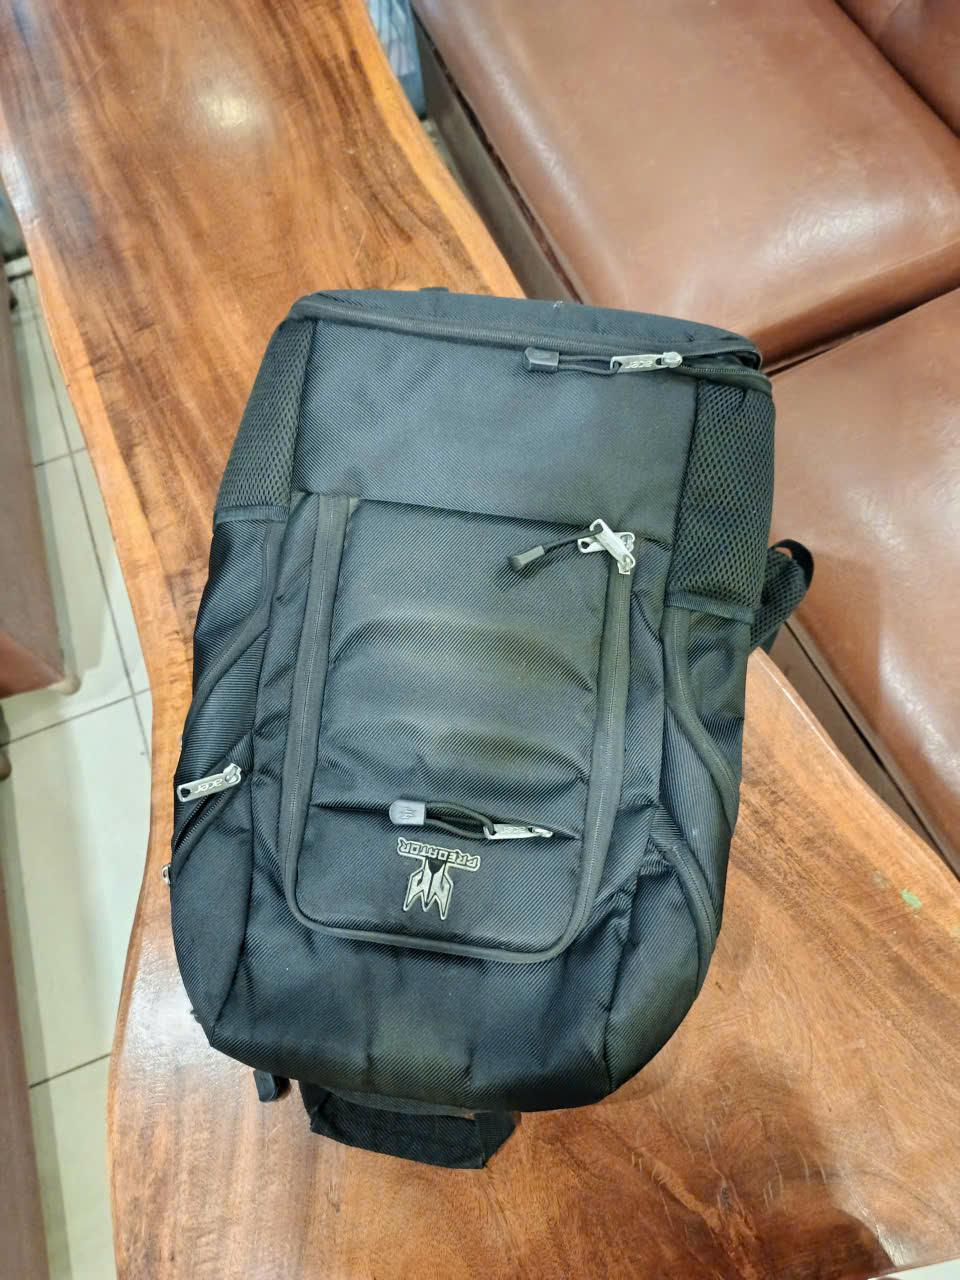Con lai: (172, 293, 776, 1161)
